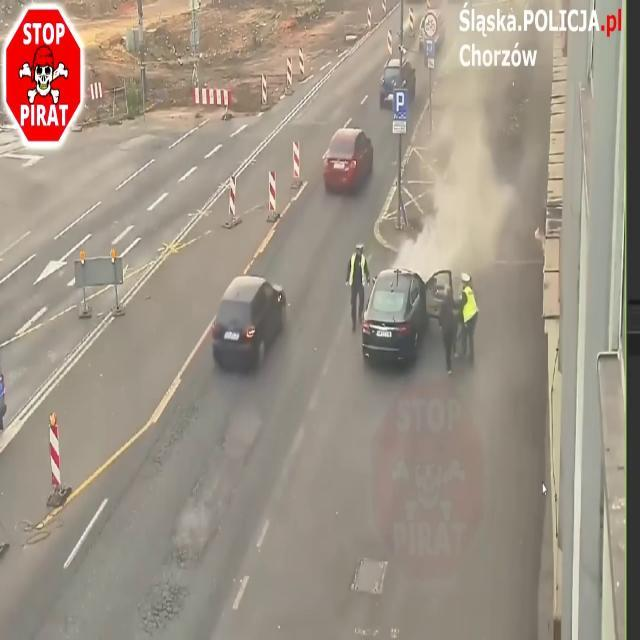Smoke: (408, 45, 542, 274)
